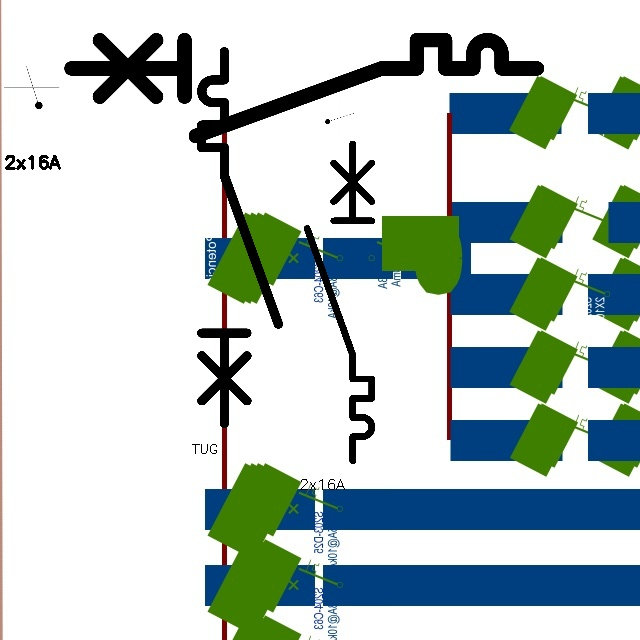interruptor_termomagnetico: (59, 28, 549, 148), (192, 42, 287, 433), (299, 135, 380, 468)
